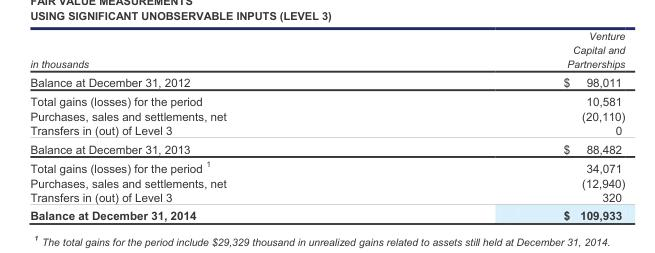table: (29, 29, 624, 221)
table column: (29, 29, 394, 221), (394, 29, 624, 221)
table column header: (29, 29, 624, 72)
table row: (29, 29, 624, 72), (29, 72, 624, 91), (29, 139, 624, 157), (29, 157, 624, 175), (29, 91, 624, 108), (29, 122, 624, 139), (29, 189, 624, 206), (29, 206, 624, 221), (29, 108, 624, 122), (29, 175, 624, 189)
